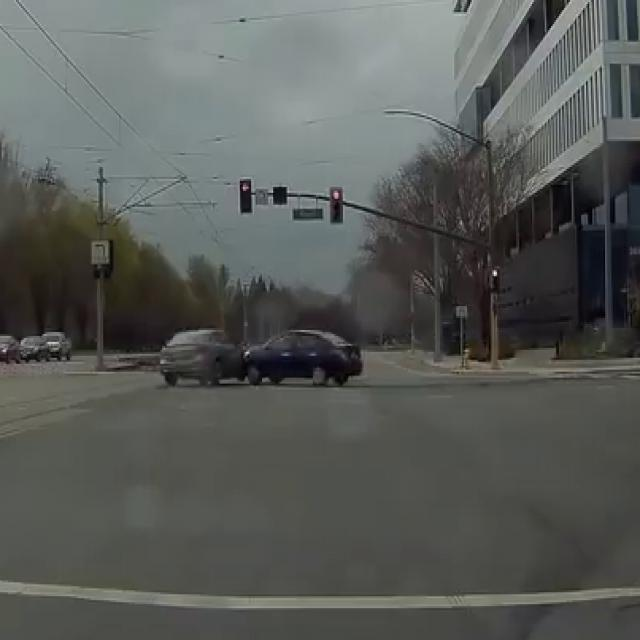accident: (172, 316, 375, 394)
